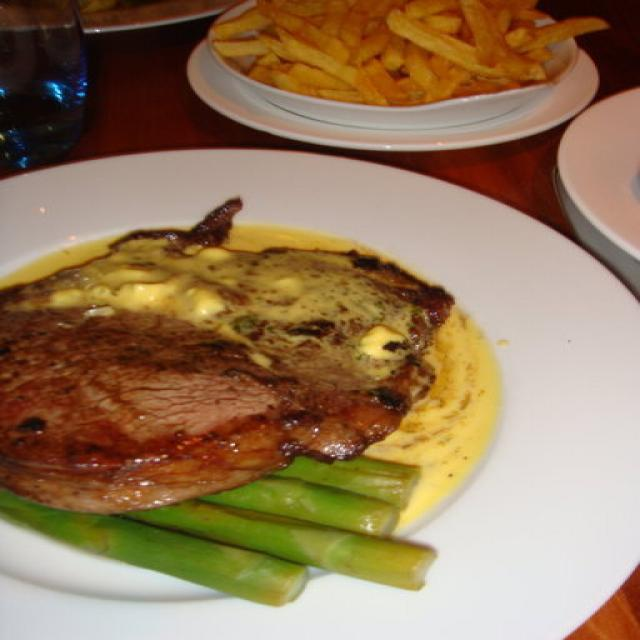Steak: (20, 232, 494, 517)
